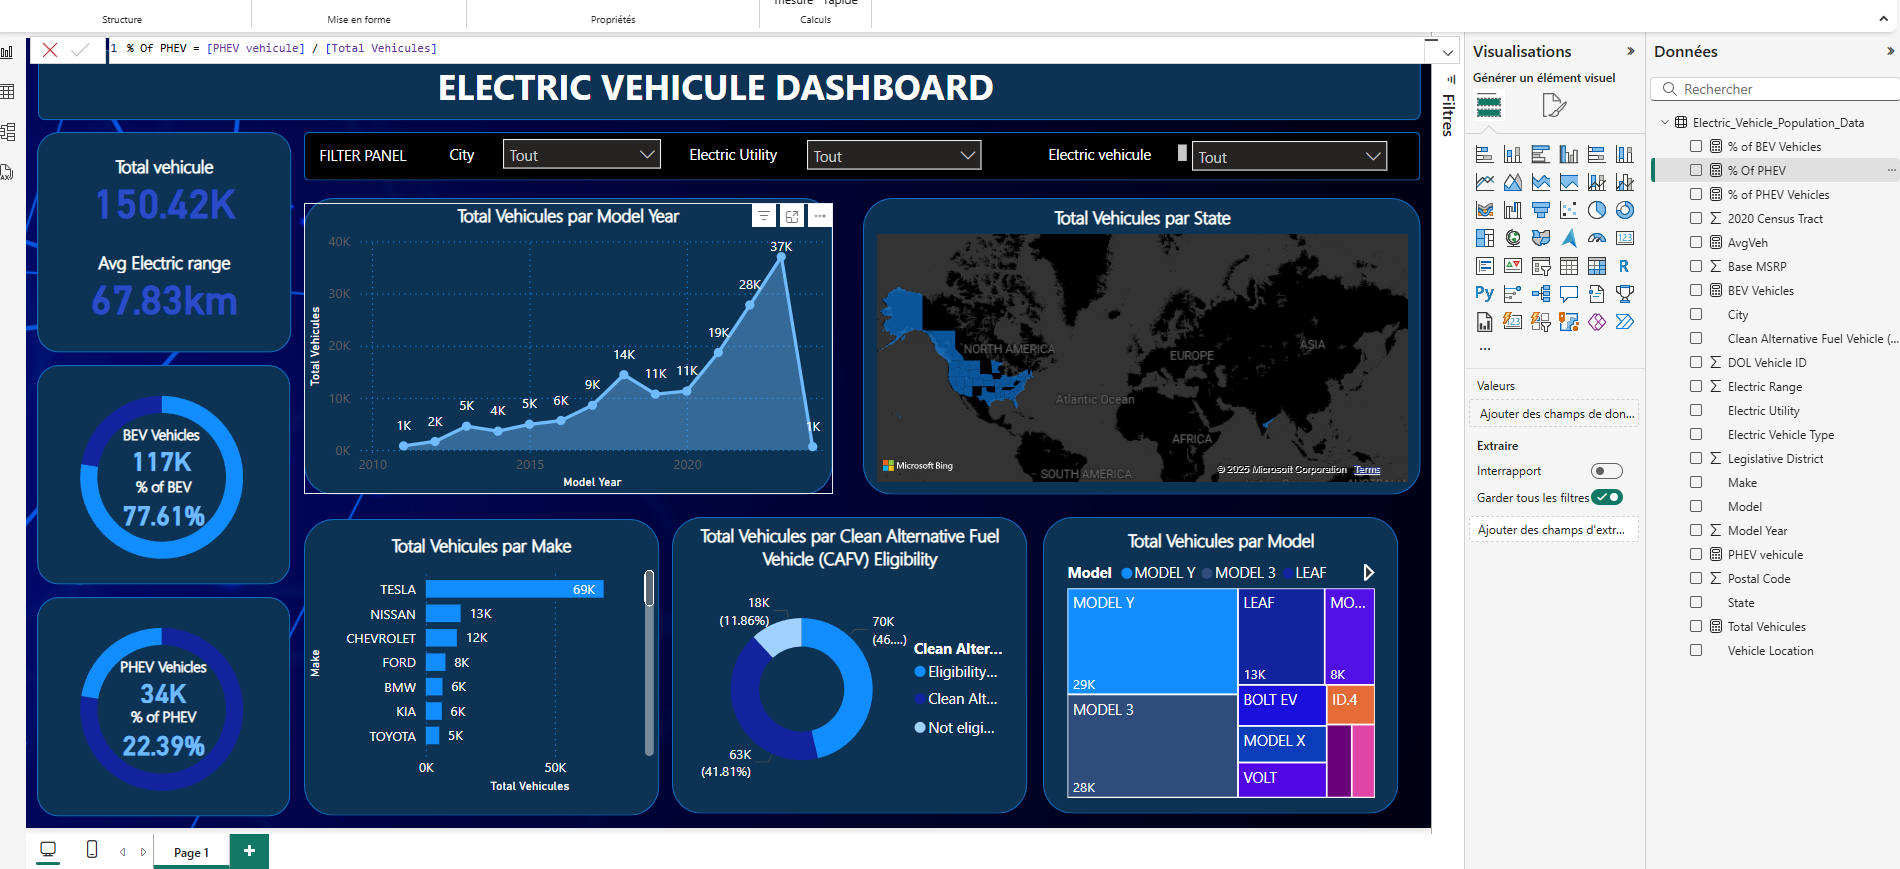

Layout of this report page (visuals, bound fields, positions):
{"tool":"powerbi","page":{"name":"Page 1","canvas":[1280,720],"ordinal":0},"visuals":[{"type":"shape","box":[10.6,10.6,1259.8,63.9],"z":0},{"type":"textbox","box":[369.5,16,543.1,53.2],"z":1000},{"type":"shape","box":[10.3,86,231.7,200.9],"z":2000},{"type":"card","title":"Total vehicule","fields":{"Values":["Electric_Vehicle_Population_Data.Total Vehicules"]},"box":[22.4,105.6,206.5,64.5],"z":3000},{"type":"card","title":"Avg Electric range","fields":{"Values":["Electric_Vehicle_Population_Data.AvgVeh"]},"box":[22.4,193.4,206.5,64.5],"z":4000},{"type":"shape","box":[10.3,298,230.8,199.9],"z":5000},{"type":"shape","box":[10.3,509.2,230.8,199.9],"z":6000},{"type":"donutChart","fields":{"Category":["Electric_Vehicle_Population_Data.Electric Vehicle Type"],"Y":["Electric_Vehicle_Population_Data.Total Vehicules"]},"box":[9.9,302.2,227.2,195.6],"z":7000},{"type":"card","title":"BEV Vehicles","fields":{"Values":["Electric_Vehicle_Population_Data.BEV Vehicles"]},"box":[61.2,352.6,124.4,47.4],"z":8000},{"type":"card","title":"% of BEV","fields":{"Values":["Electric_Vehicle_Population_Data.% of BEV Vehicles"]},"box":[69.1,400,112.6,51.4],"z":9000},{"type":"donutChart","fields":{"Category":["Electric_Vehicle_Population_Data.Electric Vehicle Type"],"Y":["Electric_Vehicle_Population_Data.Total Vehicules"]},"box":[9.9,513.6,227.2,195.6],"z":10000},{"type":"card","title":"PHEV Vehicles","fields":{"Values":["Electric_Vehicle_Population_Data.PHEV vehicule"]},"box":[63.2,564,124.4,47.4],"z":11000},{"type":"card","title":"% of PHEV","fields":{"Values":["Electric_Vehicle_Population_Data.% Of PHEV"]},"box":[69.1,609.4,112.6,51.4],"z":12000},{"type":"shape","box":[253.6,86,1017,44.3],"z":13000},{"type":"shape","box":[253.6,145.4,481.5,270.4],"z":14000},{"type":"areaChart","fields":{"Category":["Electric_Vehicle_Population_Data.Model Year"],"Y":["Electric_Vehicle_Population_Data.Total Vehicules"]},"box":[253.6,150.7,481.5,265.1],"z":15000},{"type":"shape","box":[762.6,145.4,508.1,270.4],"z":16000},{"type":"filledMap","fields":{"Category":["Electric_Vehicle_Population_Data.State"]},"box":[770.5,152.5,493,257.1],"z":17000},{"type":"shape","box":[253.6,438,323.6,270.4],"z":18000},{"type":"barChart","fields":{"Category":["Electric_Vehicle_Population_Data.Make"],"Y":["Electric_Vehicle_Population_Data.Total Vehicules"]},"box":[253.6,451.3,323.6,241.2],"z":19000},{"type":"shape","box":[588.8,436.3,323.6,270.4],"z":20000},{"type":"donutChart","fields":{"Category":["Electric_Vehicle_Population_Data.Clean Alternative Fuel Vehicle (CAFV) Eligibility"],"Y":["Electric_Vehicle_Population_Data.Total Vehicules"]},"box":[599.4,441.6,302.4,260.7],"z":21000},{"type":"shape","box":[926.6,436.3,323.6,270.4],"z":22000},{"type":"treemap","fields":{"Group":["Electric_Vehicle_Population_Data.Model"],"Values":["Electric_Vehicle_Population_Data.Total Vehicules"]},"box":[943.4,446,290,250.9],"z":23000},{"type":"textbox","box":[262.5,93.1,117.9,26.6],"z":24000},{"type":"slicer","fields":{"Values":["Electric_Vehicle_Population_Data.City"]},"box":[424.7,81.6,164,47],"z":25000},{"type":"textbox","box":[380.4,92.2,44.3,27.5],"z":26000},{"type":"slicer","fields":{"Values":["Electric_Vehicle_Population_Data.Electric Utility"]},"box":[701.4,83.3,179.1,47],"z":27000},{"type":"slicer","fields":{"Values":["Electric_Vehicle_Population_Data.Electric Vehicle Type"]},"box":[1052.5,84.2,197.7,47],"z":28000},{"type":"textbox","box":[599.4,92.2,115.3,31],"z":29000},{"type":"textbox","box":[926.6,92.2,135.7,31],"z":30000}]}

Visuals, with their boxes on the page's 1280x720 design canvas (x1, y1, x2, y2). These are canvas units, not pixel positions in the 1900x869 screenshot, which may show the page scaled, cropped or inside an application window:
shape: BBox(11, 11, 1270, 74)
textbox: BBox(370, 16, 913, 69)
shape: BBox(10, 86, 242, 287)
"Total vehicule" card: BBox(22, 106, 229, 170)
"Avg Electric range" card: BBox(22, 193, 229, 258)
shape: BBox(10, 298, 241, 498)
shape: BBox(10, 509, 241, 709)
donutChart - Electric_Vehicle_Population_Data.Electric Vehicle Type x Electric_Vehicle_Population_Data.Total Vehicules: BBox(10, 302, 237, 498)
"BEV Vehicles" card: BBox(61, 353, 186, 400)
"% of BEV" card: BBox(69, 400, 182, 451)
donutChart - Electric_Vehicle_Population_Data.Electric Vehicle Type x Electric_Vehicle_Population_Data.Total Vehicules: BBox(10, 514, 237, 709)
"PHEV Vehicles" card: BBox(63, 564, 188, 611)
"% of PHEV" card: BBox(69, 609, 182, 661)
shape: BBox(254, 86, 1271, 130)
shape: BBox(254, 145, 735, 416)
areaChart - Electric_Vehicle_Population_Data.Model Year x Electric_Vehicle_Population_Data.Total Vehicules: BBox(254, 151, 735, 416)
shape: BBox(763, 145, 1271, 416)
filledMap - Electric_Vehicle_Population_Data.State: BBox(770, 152, 1264, 410)
shape: BBox(254, 438, 577, 708)
barChart - Electric_Vehicle_Population_Data.Make x Electric_Vehicle_Population_Data.Total Vehicules: BBox(254, 451, 577, 692)
shape: BBox(589, 436, 912, 707)
donutChart - Electric_Vehicle_Population_Data.Clean Alternative Fuel Vehicle (CAFV) Eligibility x Electric_Vehicle_Population_Data.Total Vehicules: BBox(599, 442, 902, 702)
shape: BBox(927, 436, 1250, 707)
treemap - Electric_Vehicle_Population_Data.Model x Electric_Vehicle_Population_Data.Total Vehicules: BBox(943, 446, 1233, 697)
textbox: BBox(262, 93, 380, 120)
slicer - Electric_Vehicle_Population_Data.City: BBox(425, 82, 589, 129)
textbox: BBox(380, 92, 425, 120)
slicer - Electric_Vehicle_Population_Data.Electric Utility: BBox(701, 83, 880, 130)
slicer - Electric_Vehicle_Population_Data.Electric Vehicle Type: BBox(1052, 84, 1250, 131)
textbox: BBox(599, 92, 715, 123)
textbox: BBox(927, 92, 1062, 123)
